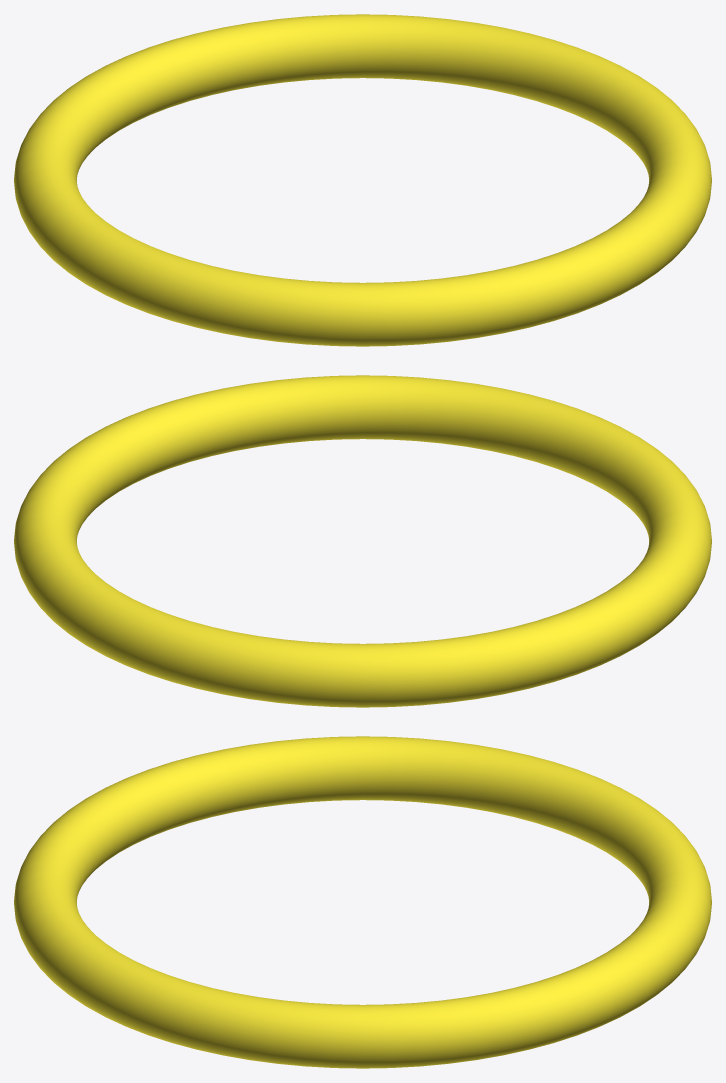
Rendered from ring.fbx.
3 renders of one model, top to bottom at view 1: azimuth 30°, elevation 25°; view 2: azimuth 150°, elevation 25°; view 3: azimuth 270°, elevation 25°, orthographic.
Parts seen in each view (by area): view 1: Torus; view 2: Torus; view 3: Torus.
Part boxes in pixels (x1,y1,x2,y2): Torus: (14,14,711,346); Torus: (14,375,711,707); Torus: (14,736,711,1068).
Bounding box in the file's own units: 321 × 29.4 × 321.
